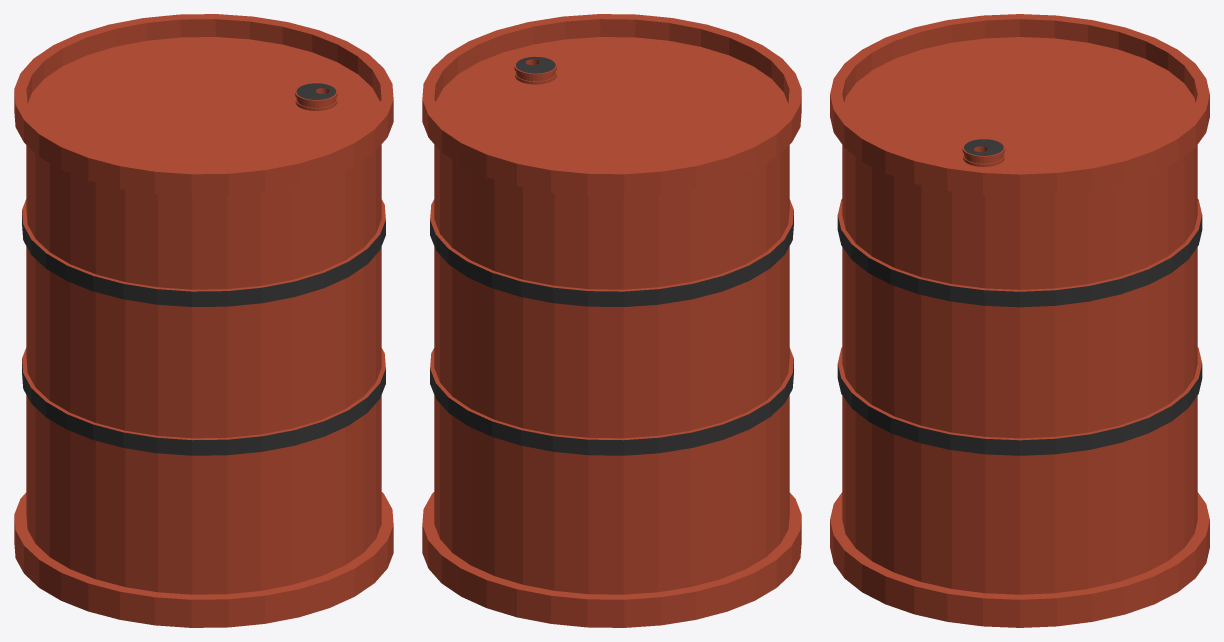
The model's file is OilDrum.fbx.
3 renders of one model, left to right at view 1: azimuth 30°, elevation 25°; view 2: azimuth 150°, elevation 25°; view 3: azimuth 270°, elevation 25°, orthographic.
Visible parts, largest first — view 1: Cylinder; view 2: Cylinder; view 3: Cylinder.
Boxes of the visible parts, x1=… form: Cylinder: x1=14, y1=14, x2=393, y2=627; Cylinder: x1=422, y1=14, x2=801, y2=627; Cylinder: x1=830, y1=14, x2=1209, y2=627.
Bounding box in the file's own units: 185 × 243 × 185.
